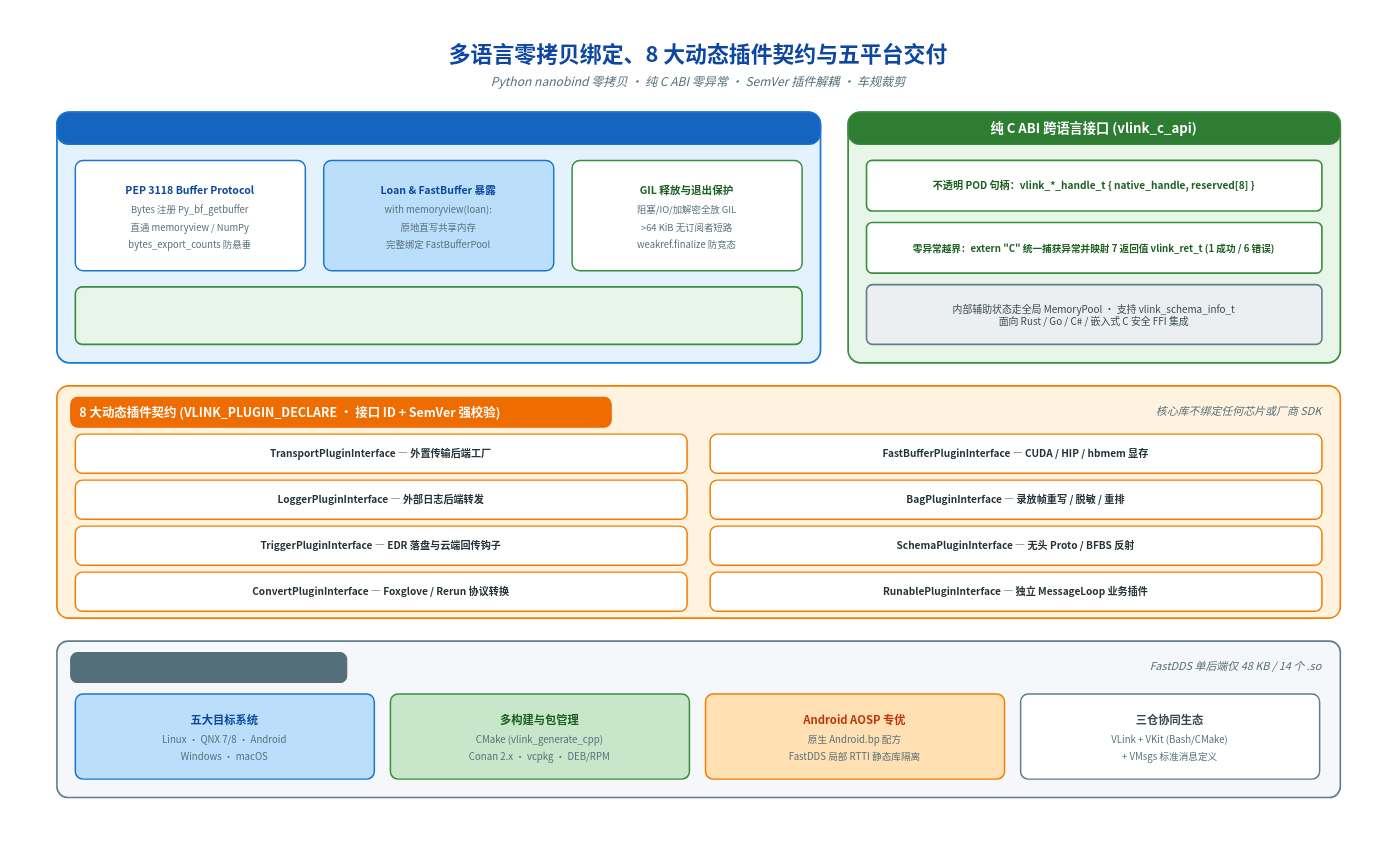
Some shapes in this 1396 by 844 pixel diagram are drawn without their labels. The shapes that lost their labels are listed below. From the top down, each one's centre as x and y in pixels, then its label:
(438,127): Python nanobind 零拷贝绑定 (_vlink_nanobind)
(438,315): C++ 实时感知采集进程 ⇄ FastBuffer (140 B 显存句柄) ⇄ Python PyTorch / TensorRT VLA 进程
(208,667): 五平台支持与车规裁剪交付
